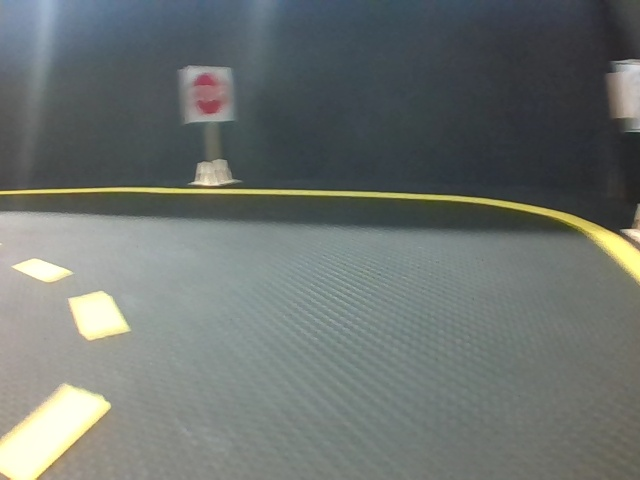stop: (183, 68, 231, 120)
